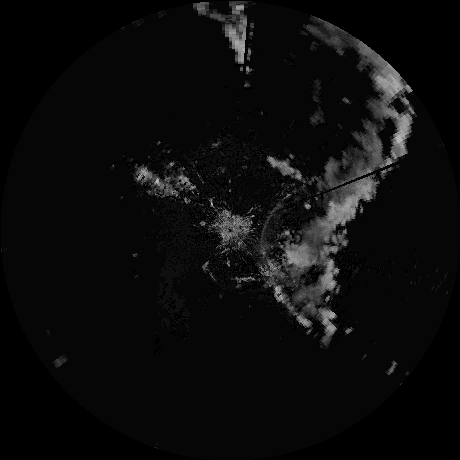frontgust: (259, 204, 281, 258)
